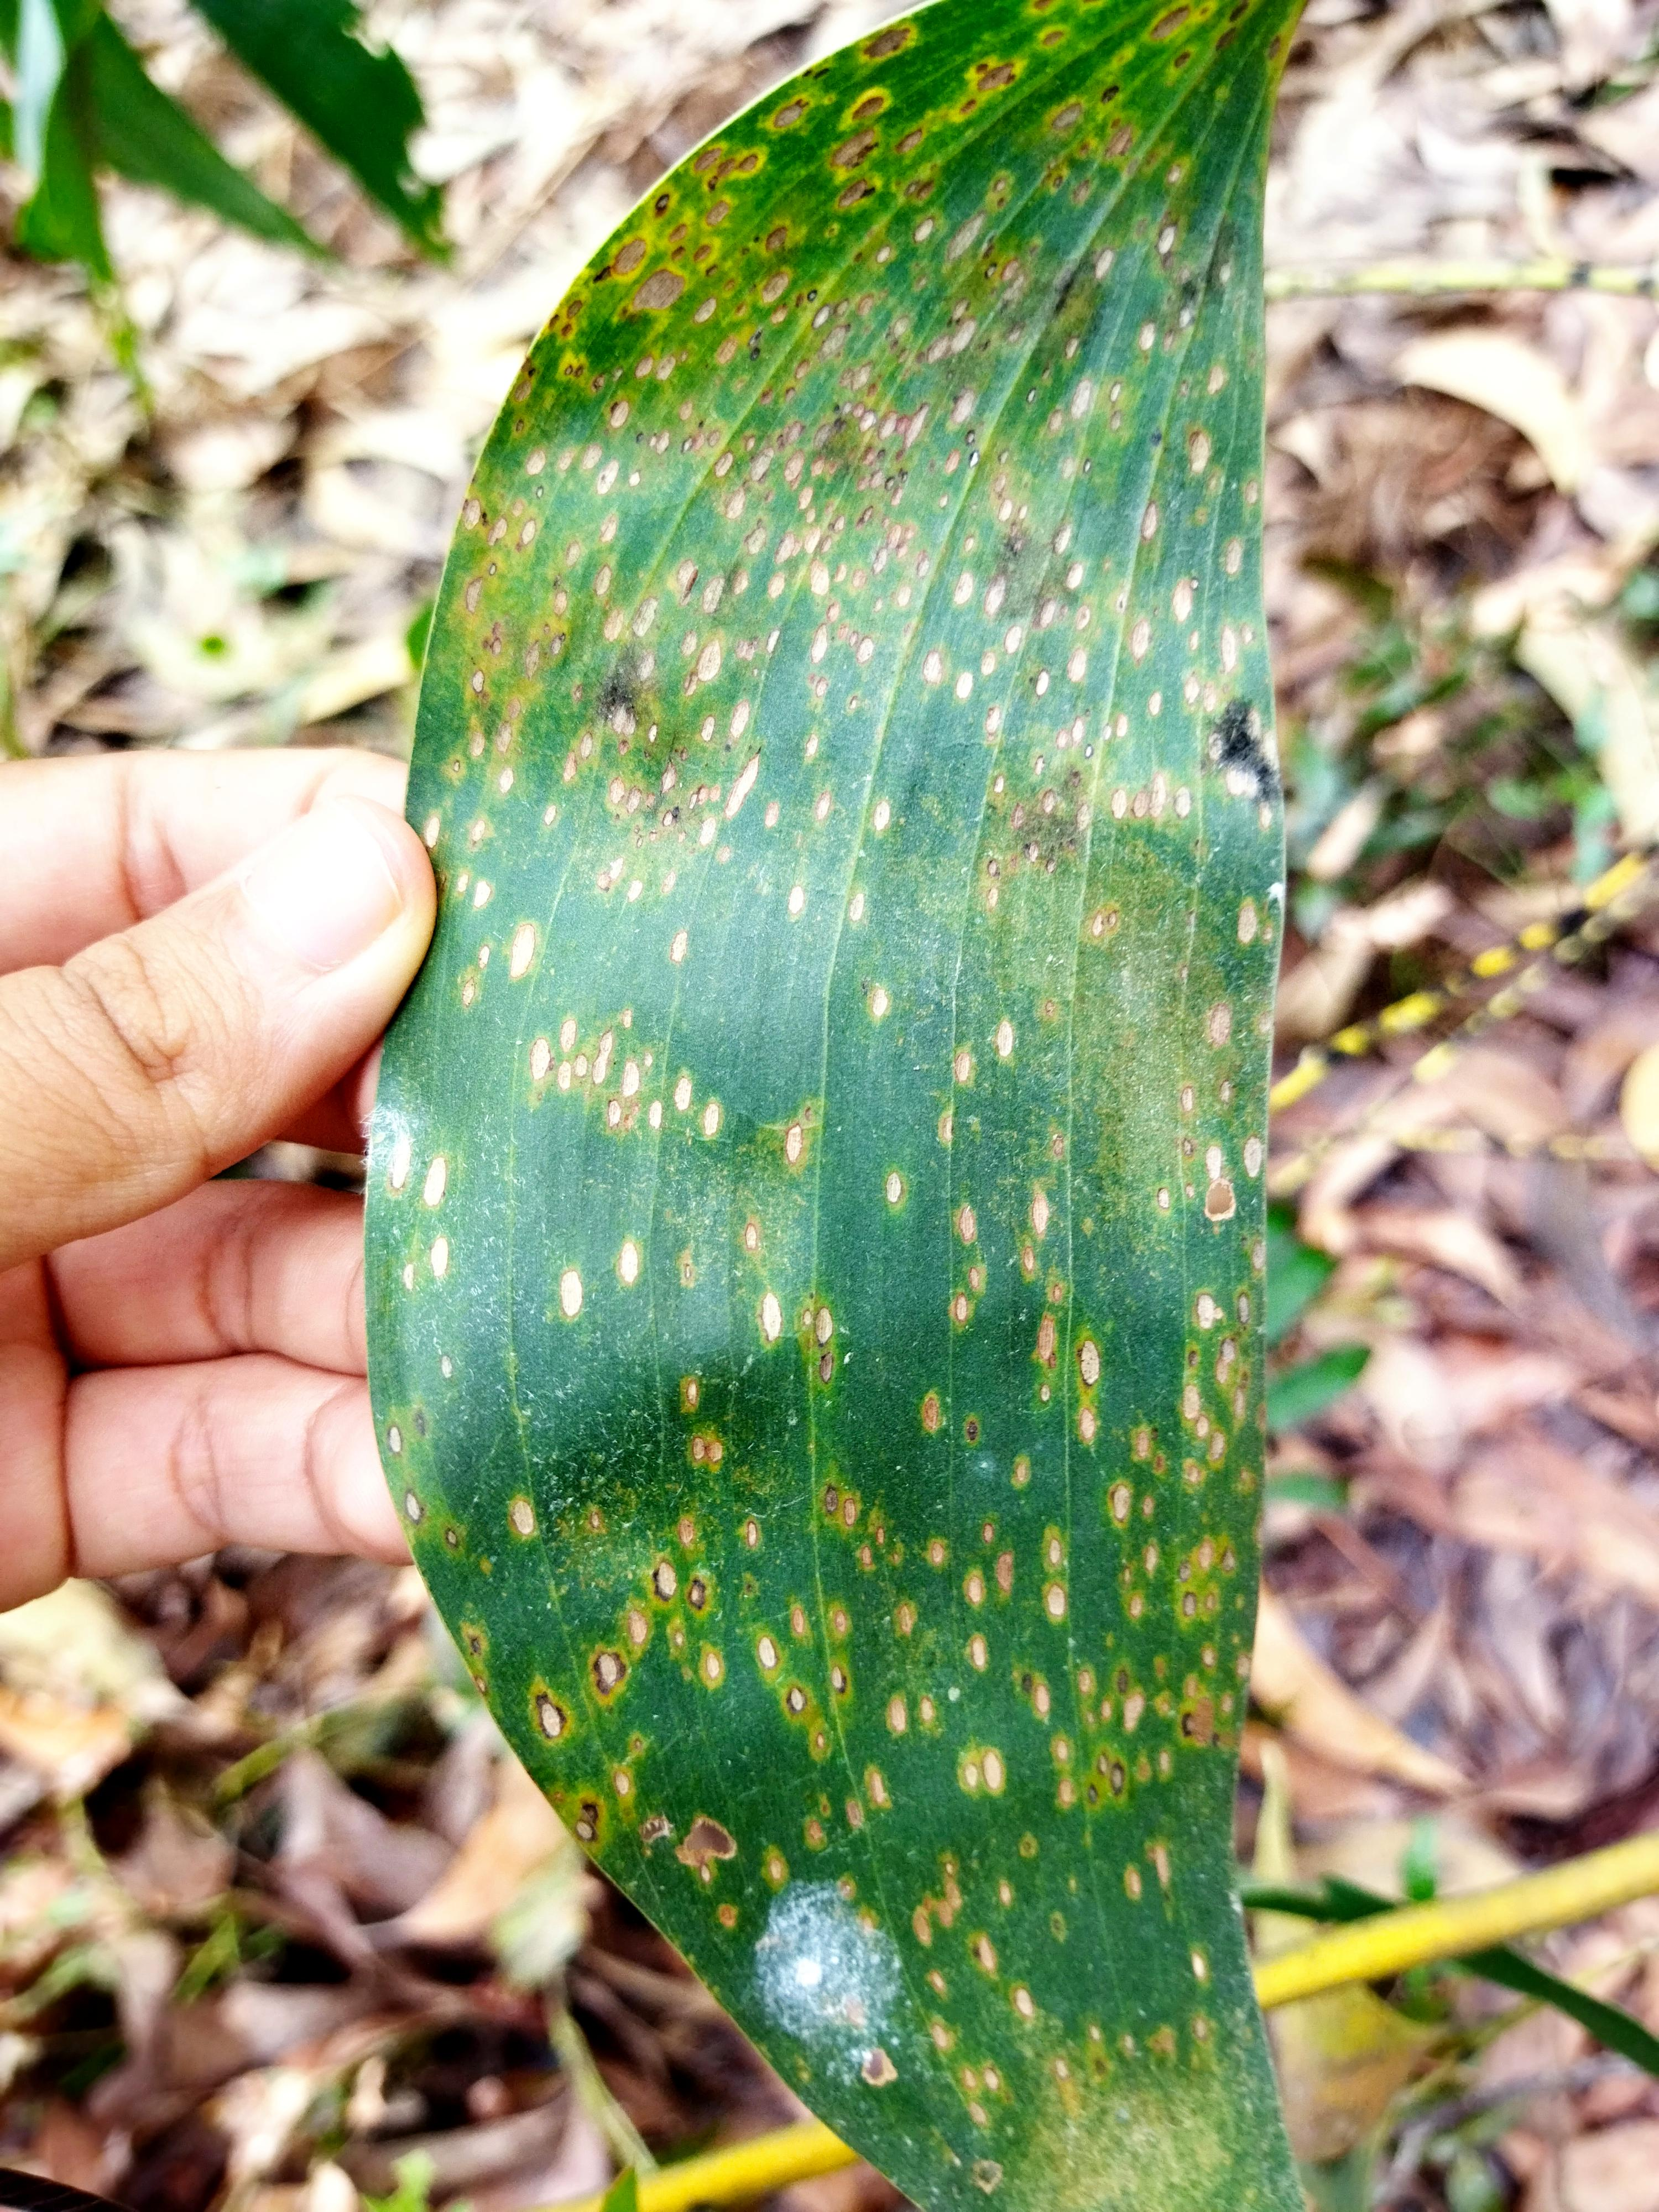Xanthomonas: (598, 211, 1270, 2200)
